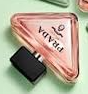prada_paradoxe: (6, 10, 82, 87)
